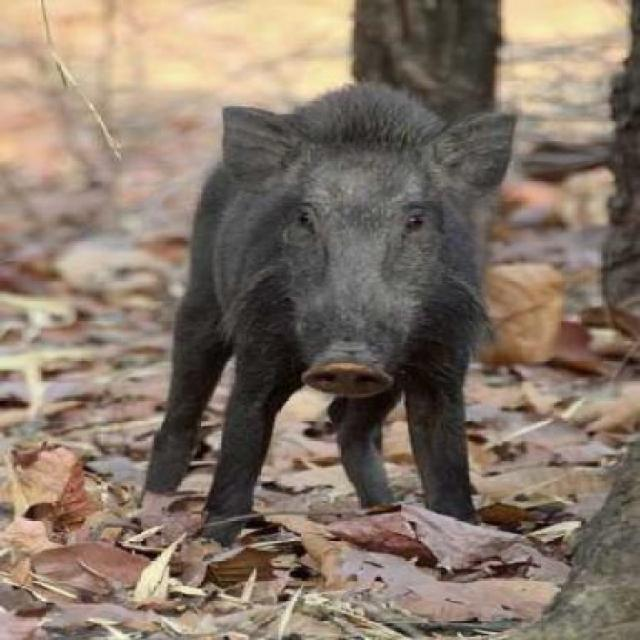pig: (92, 75, 533, 553)
